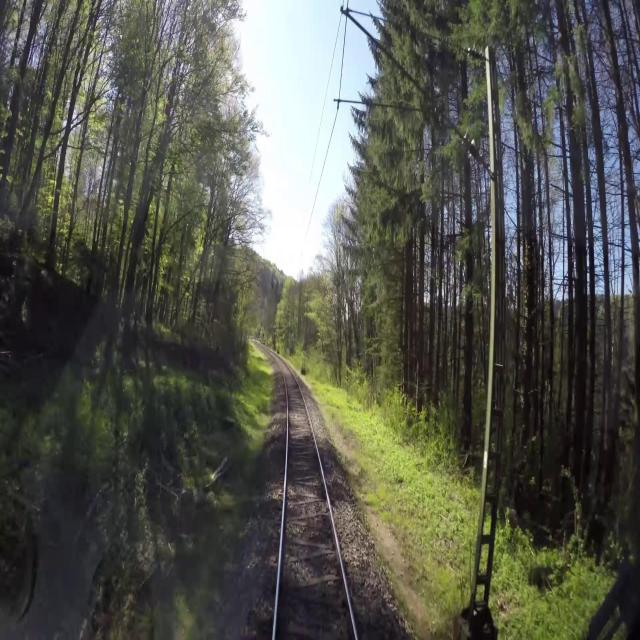rail-track: (278, 361, 353, 639)
